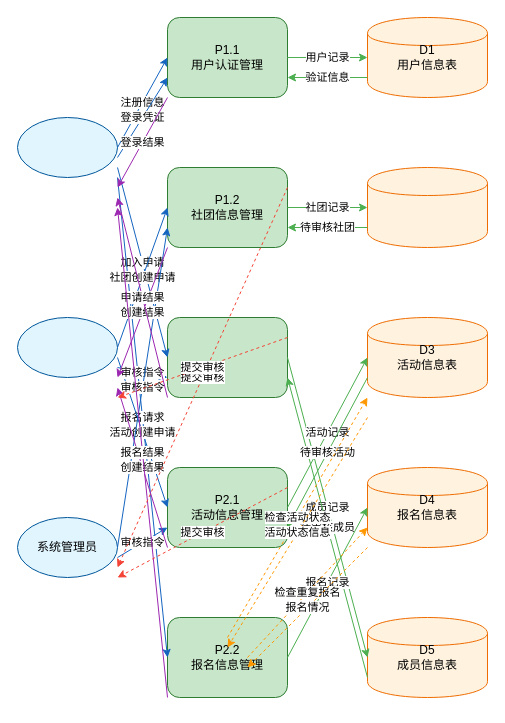
Image size: 505x723. Some labels were removed from this diagram. Here are the shapes that lost their labels. From the top down, the box of each, then its label:
(16, 116, 118, 178): 学生用户
(366, 166, 488, 248): D2 社团信息表
(16, 316, 118, 378): 社团负责人
(166, 316, 288, 398): P1.3 成员关系管理
